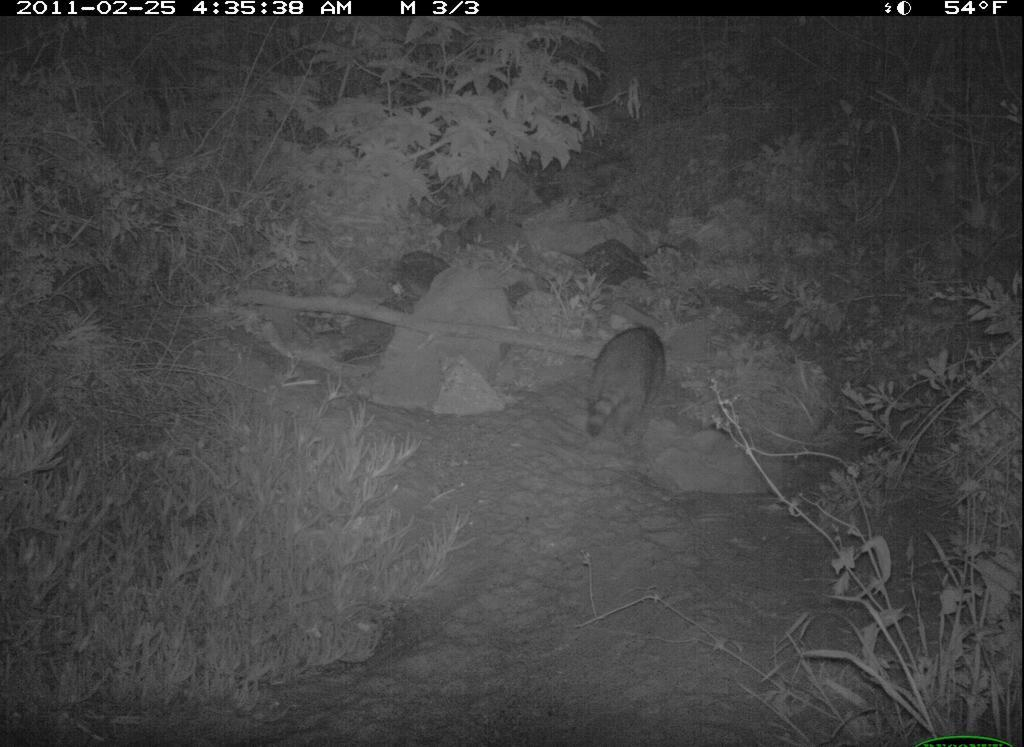raccoon: (583, 326, 671, 442)
